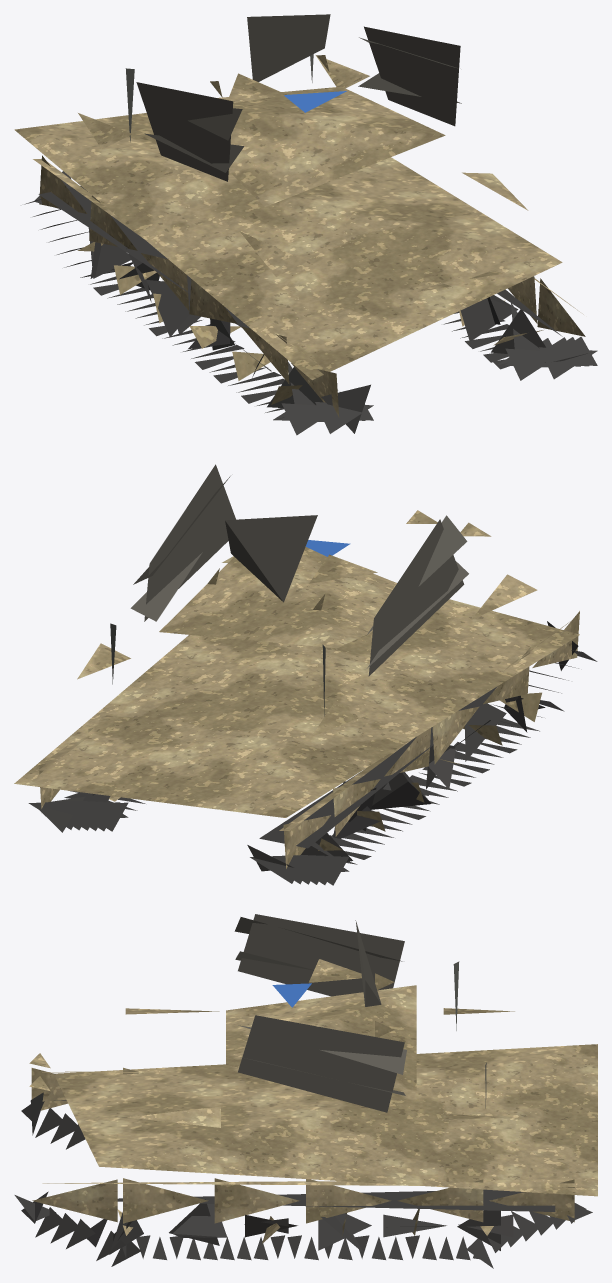
Rendered from aad_e4_us_shorad_LOD2.glb.
3 views of the same model, one above another, from view 1: azimuth 30°, elevation 25°; view 2: azimuth 150°, elevation 25°; view 3: azimuth 270°, elevation 25° (orthographic). The views are drawn at different scales.
Visible parts, largest first — view 1: aad_e4_us_shorad_LOD2_body, aad_e4_us_shorad_LOD2_track, aad_e4_us_shorad_LOD2_deck, aad_e4_us_shorad_LOD2_team; view 2: aad_e4_us_shorad_LOD2_body, aad_e4_us_shorad_LOD2_deck, aad_e4_us_shorad_LOD2_track; view 3: aad_e4_us_shorad_LOD2_body, aad_e4_us_shorad_LOD2_deck, aad_e4_us_shorad_LOD2_track, aad_e4_us_shorad_LOD2_team.
Boxes of the visible parts, x1,y1,x2,y2 form: aad_e4_us_shorad_LOD2_body: [14, 55, 585, 417]; aad_e4_us_shorad_LOD2_track: [24, 171, 597, 435]; aad_e4_us_shorad_LOD2_deck: [136, 14, 461, 181]; aad_e4_us_shorad_LOD2_team: [284, 91, 346, 112]; aad_e4_us_shorad_LOD2_body: [14, 510, 579, 868]; aad_e4_us_shorad_LOD2_deck: [130, 464, 468, 676]; aad_e4_us_shorad_LOD2_track: [28, 621, 597, 885]; aad_e4_us_shorad_LOD2_body: [29, 959, 597, 1243]; aad_e4_us_shorad_LOD2_deck: [234, 914, 406, 1112]; aad_e4_us_shorad_LOD2_track: [14, 1092, 592, 1268]; aad_e4_us_shorad_LOD2_team: [272, 983, 311, 1007].
Size of the model in its own units: 3.2 by 3.3 by 6.44.
5 materials, 1 textured.
